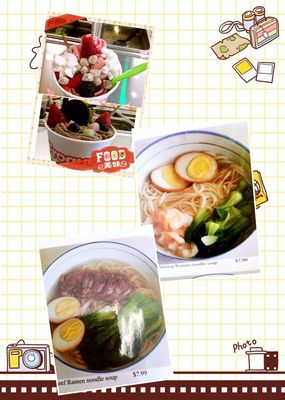sushi: (42, 240, 173, 375), (43, 97, 118, 159)
